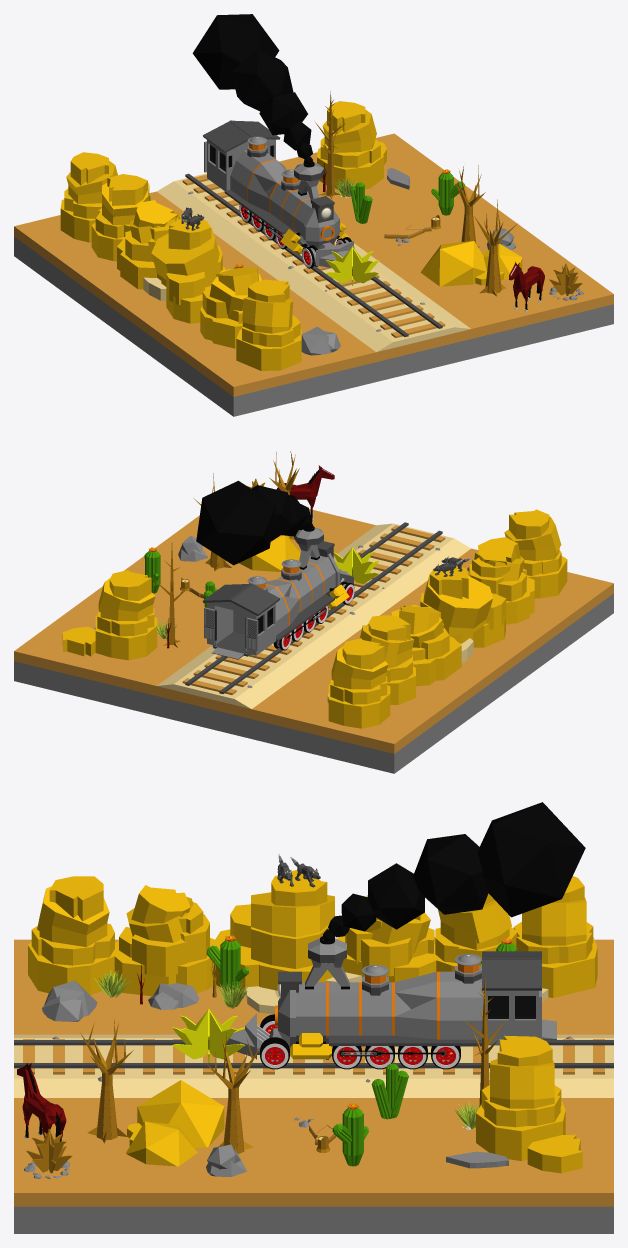
File: across the desert.glb
The picture shows the model from 3 angles, top to bottom: view 1: azimuth 30°, elevation 25°; view 2: azimuth 150°, elevation 25°; view 3: azimuth 270°, elevation 25°; orthographic projection. The views are drawn at different scales.
Parts seen in each view (by area): view 1: box (×8), icosahedron (×7), wedge (×3); view 2: box (×12), icosahedron (×4), wedge (×5); view 3: box (×21), wedge (×24), icosahedron (×9).
Boxes of the visible parts, <box> form: box (×8): <box>14,121,613,416</box>; icosahedron (×7): <box>192,14,522,355</box>; wedge (×3): <box>157,181,470,352</box>; box (×12): <box>14,509,613,773</box>; icosahedron (×4): <box>196,480,308,571</box>; wedge (×5): <box>157,523,558,728</box>; box (×21): <box>14,875,613,1233</box>; wedge (×24): <box>14,890,613,1160</box>; icosahedron (×9): <box>42,802,585,1166</box>.
Bounding box in the file's own units: 200 × 109 × 200.
